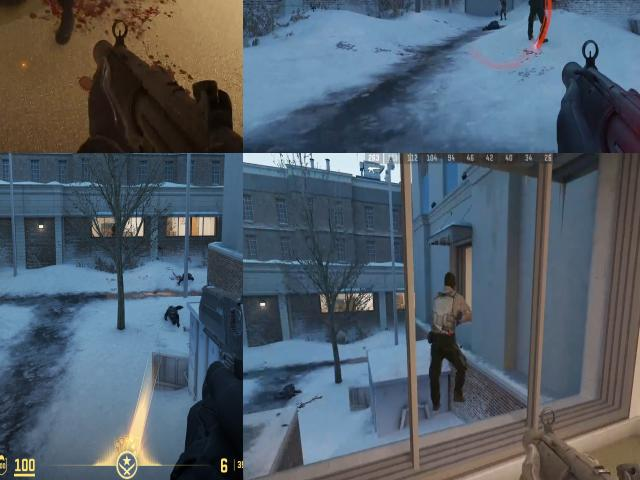CT: (500, 0, 508, 19), (112, 224, 116, 236)
CT-Head: (501, 0, 505, 3), (113, 224, 115, 227)
Dead: (276, 378, 304, 402), (480, 18, 503, 42), (163, 303, 180, 325), (178, 270, 194, 285)
T: (428, 285, 469, 336), (529, 0, 547, 12)
T-Head: (441, 270, 460, 297)
